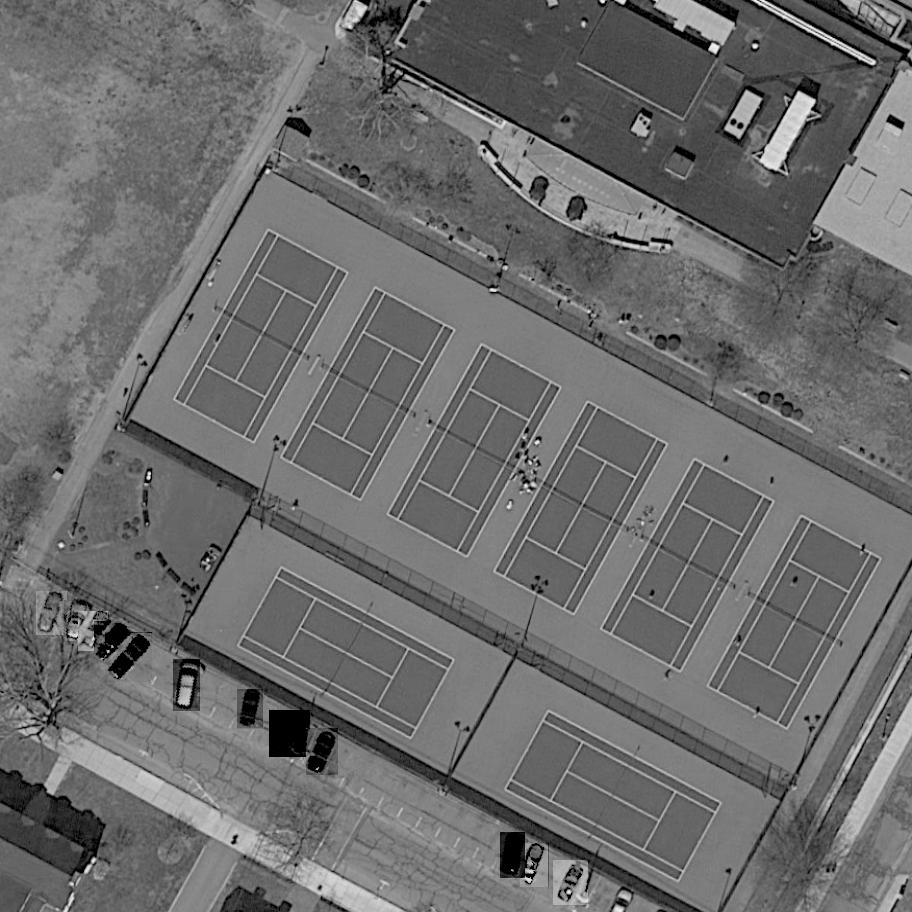small-vehicle: (106, 633, 152, 683), (270, 710, 311, 758), (553, 860, 589, 906), (305, 729, 339, 776), (36, 591, 68, 639), (94, 621, 130, 663), (173, 659, 200, 711), (520, 843, 549, 888), (78, 612, 109, 654), (499, 832, 525, 878), (237, 689, 263, 731), (65, 601, 88, 643)
